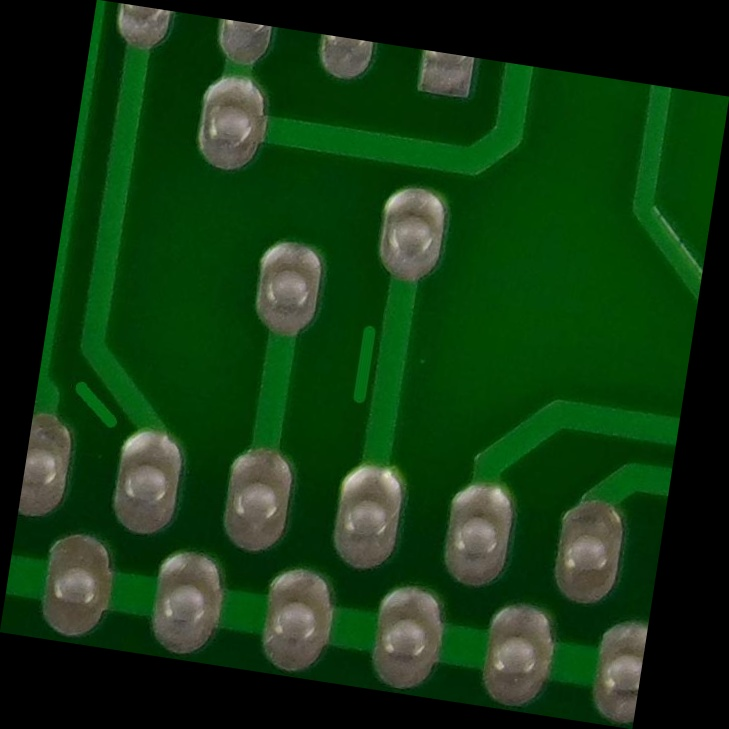spurious_copper: (327, 311, 403, 419)
